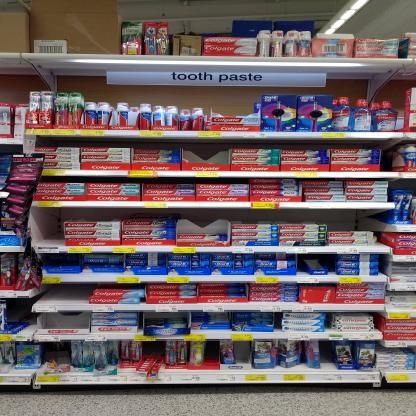Void: (30, 206, 63, 243), (235, 210, 322, 223), (182, 210, 226, 233), (64, 210, 174, 219), (187, 140, 227, 161), (44, 285, 88, 303), (332, 212, 371, 230), (41, 315, 89, 328), (42, 254, 80, 266), (322, 341, 335, 368), (237, 343, 251, 368)
